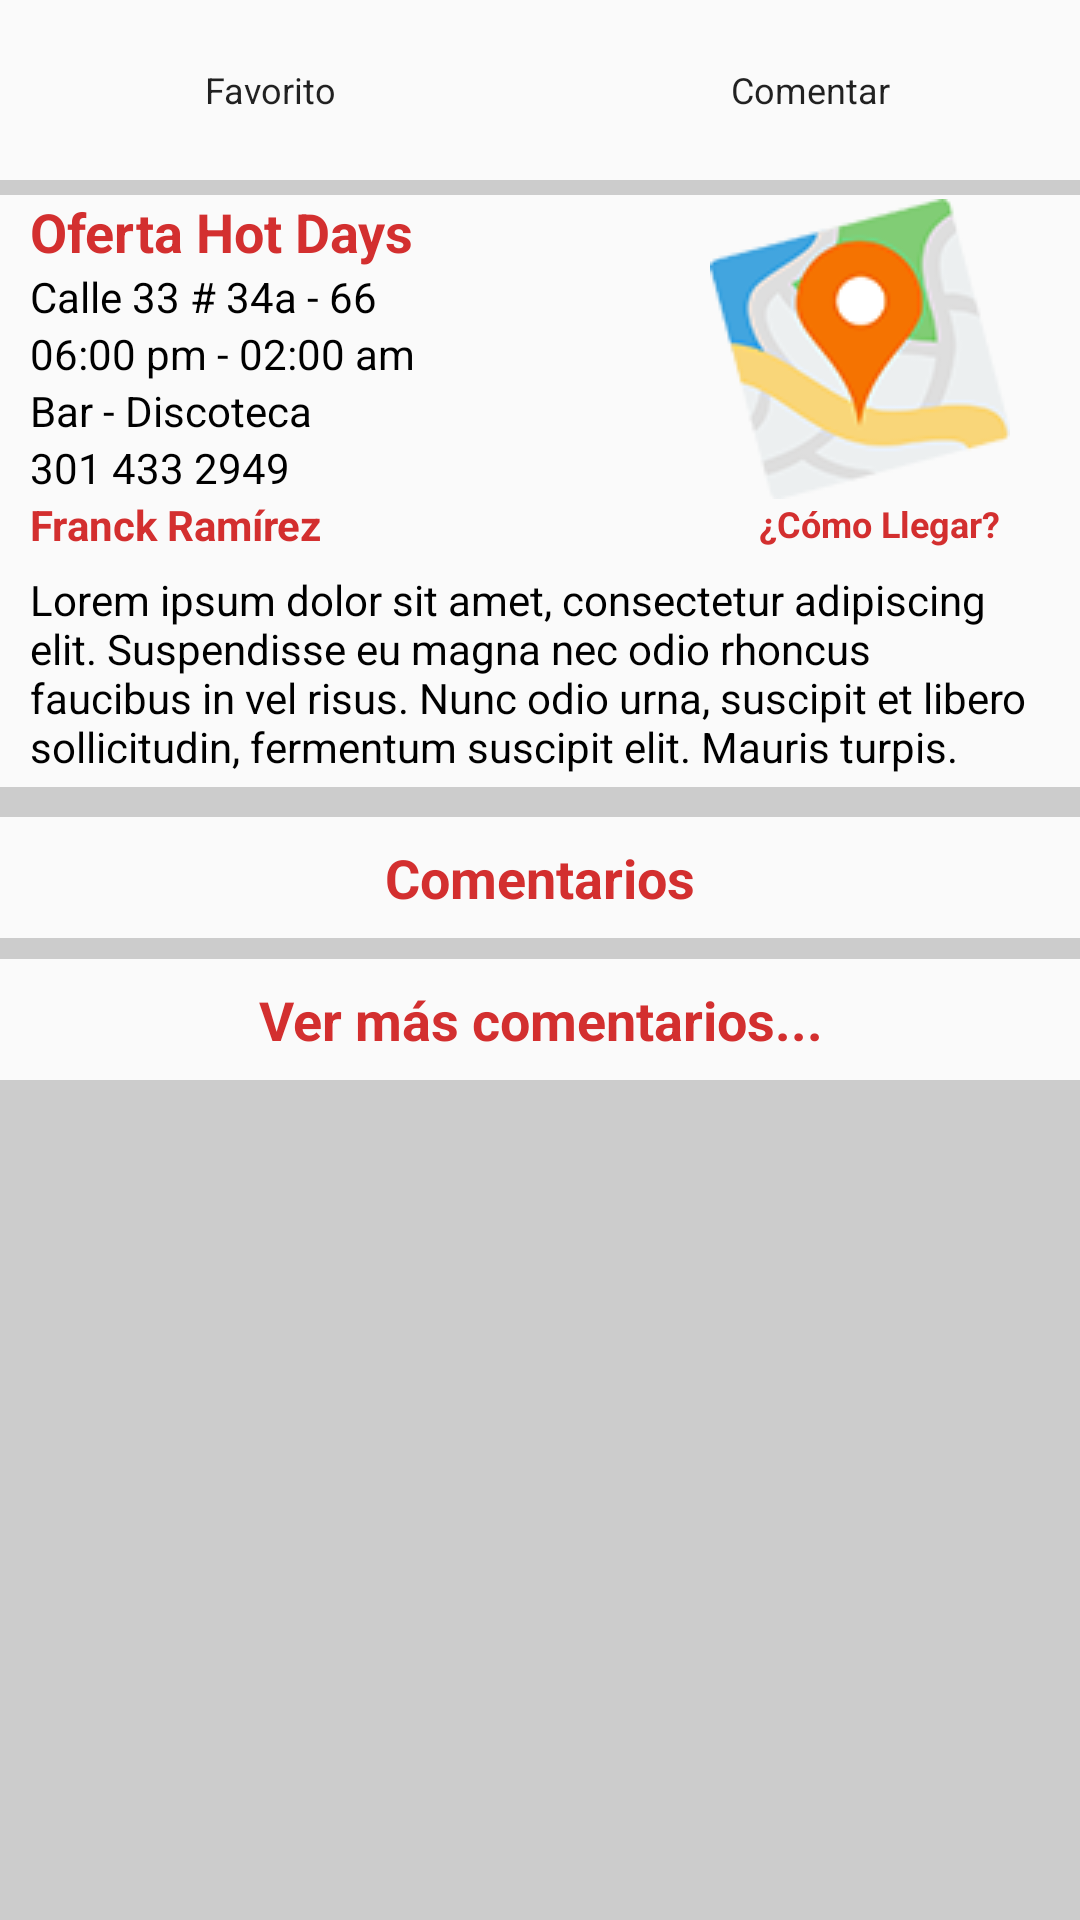

Icon bounding boxes for this 1080 × 1920 phone screenshot, format (x1, y1, x2, y2):
mapa diag: (710, 199, 1008, 478)
